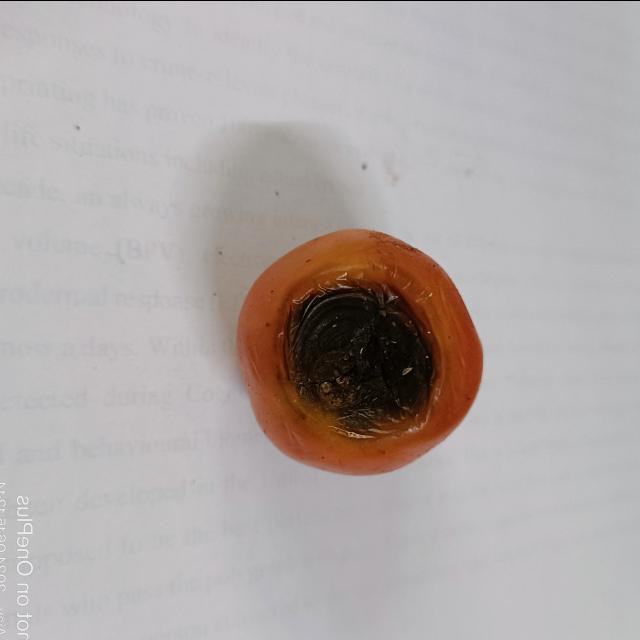Anthrocnose: (280, 282, 444, 438)
